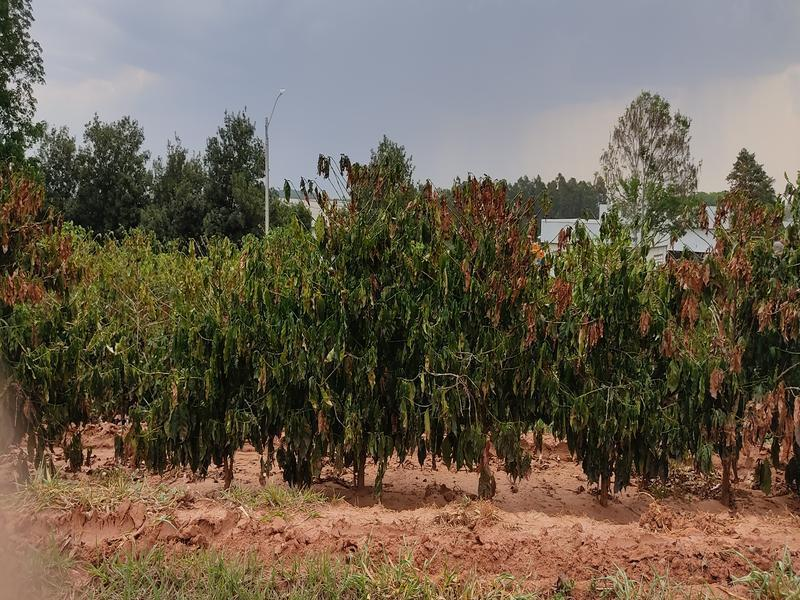coffee: (278, 139, 429, 510), (654, 183, 800, 528), (413, 172, 553, 513), (533, 195, 665, 536), (2, 176, 120, 492), (158, 243, 285, 492)
